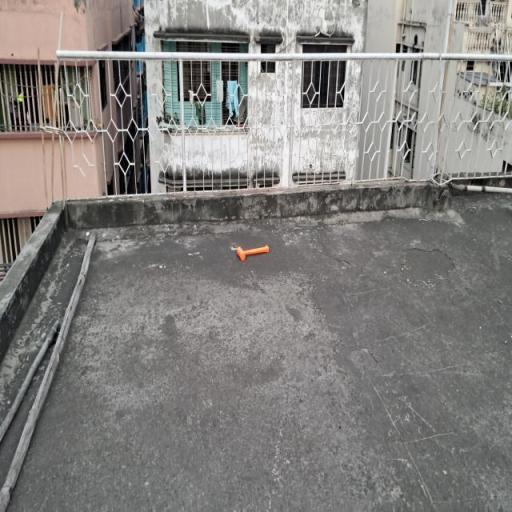mallet: (235, 244, 272, 259)
